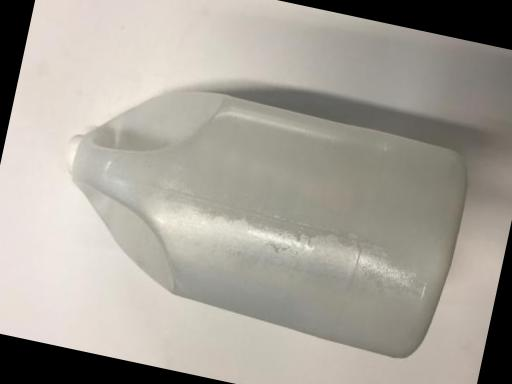plastic: (7, 33, 512, 384)
